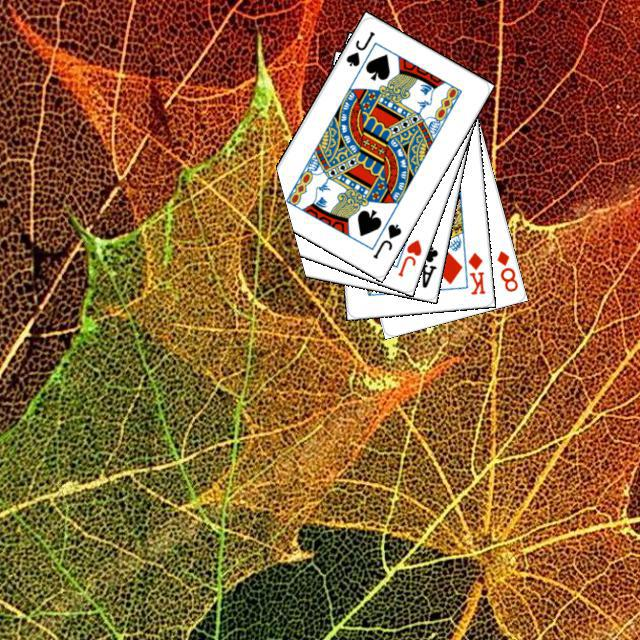8d: (492, 246, 520, 294)
Ac: (416, 241, 440, 290)
Jh: (393, 234, 423, 278)
Js: (341, 26, 377, 68), (368, 219, 403, 260)
Kd: (463, 248, 487, 296)
